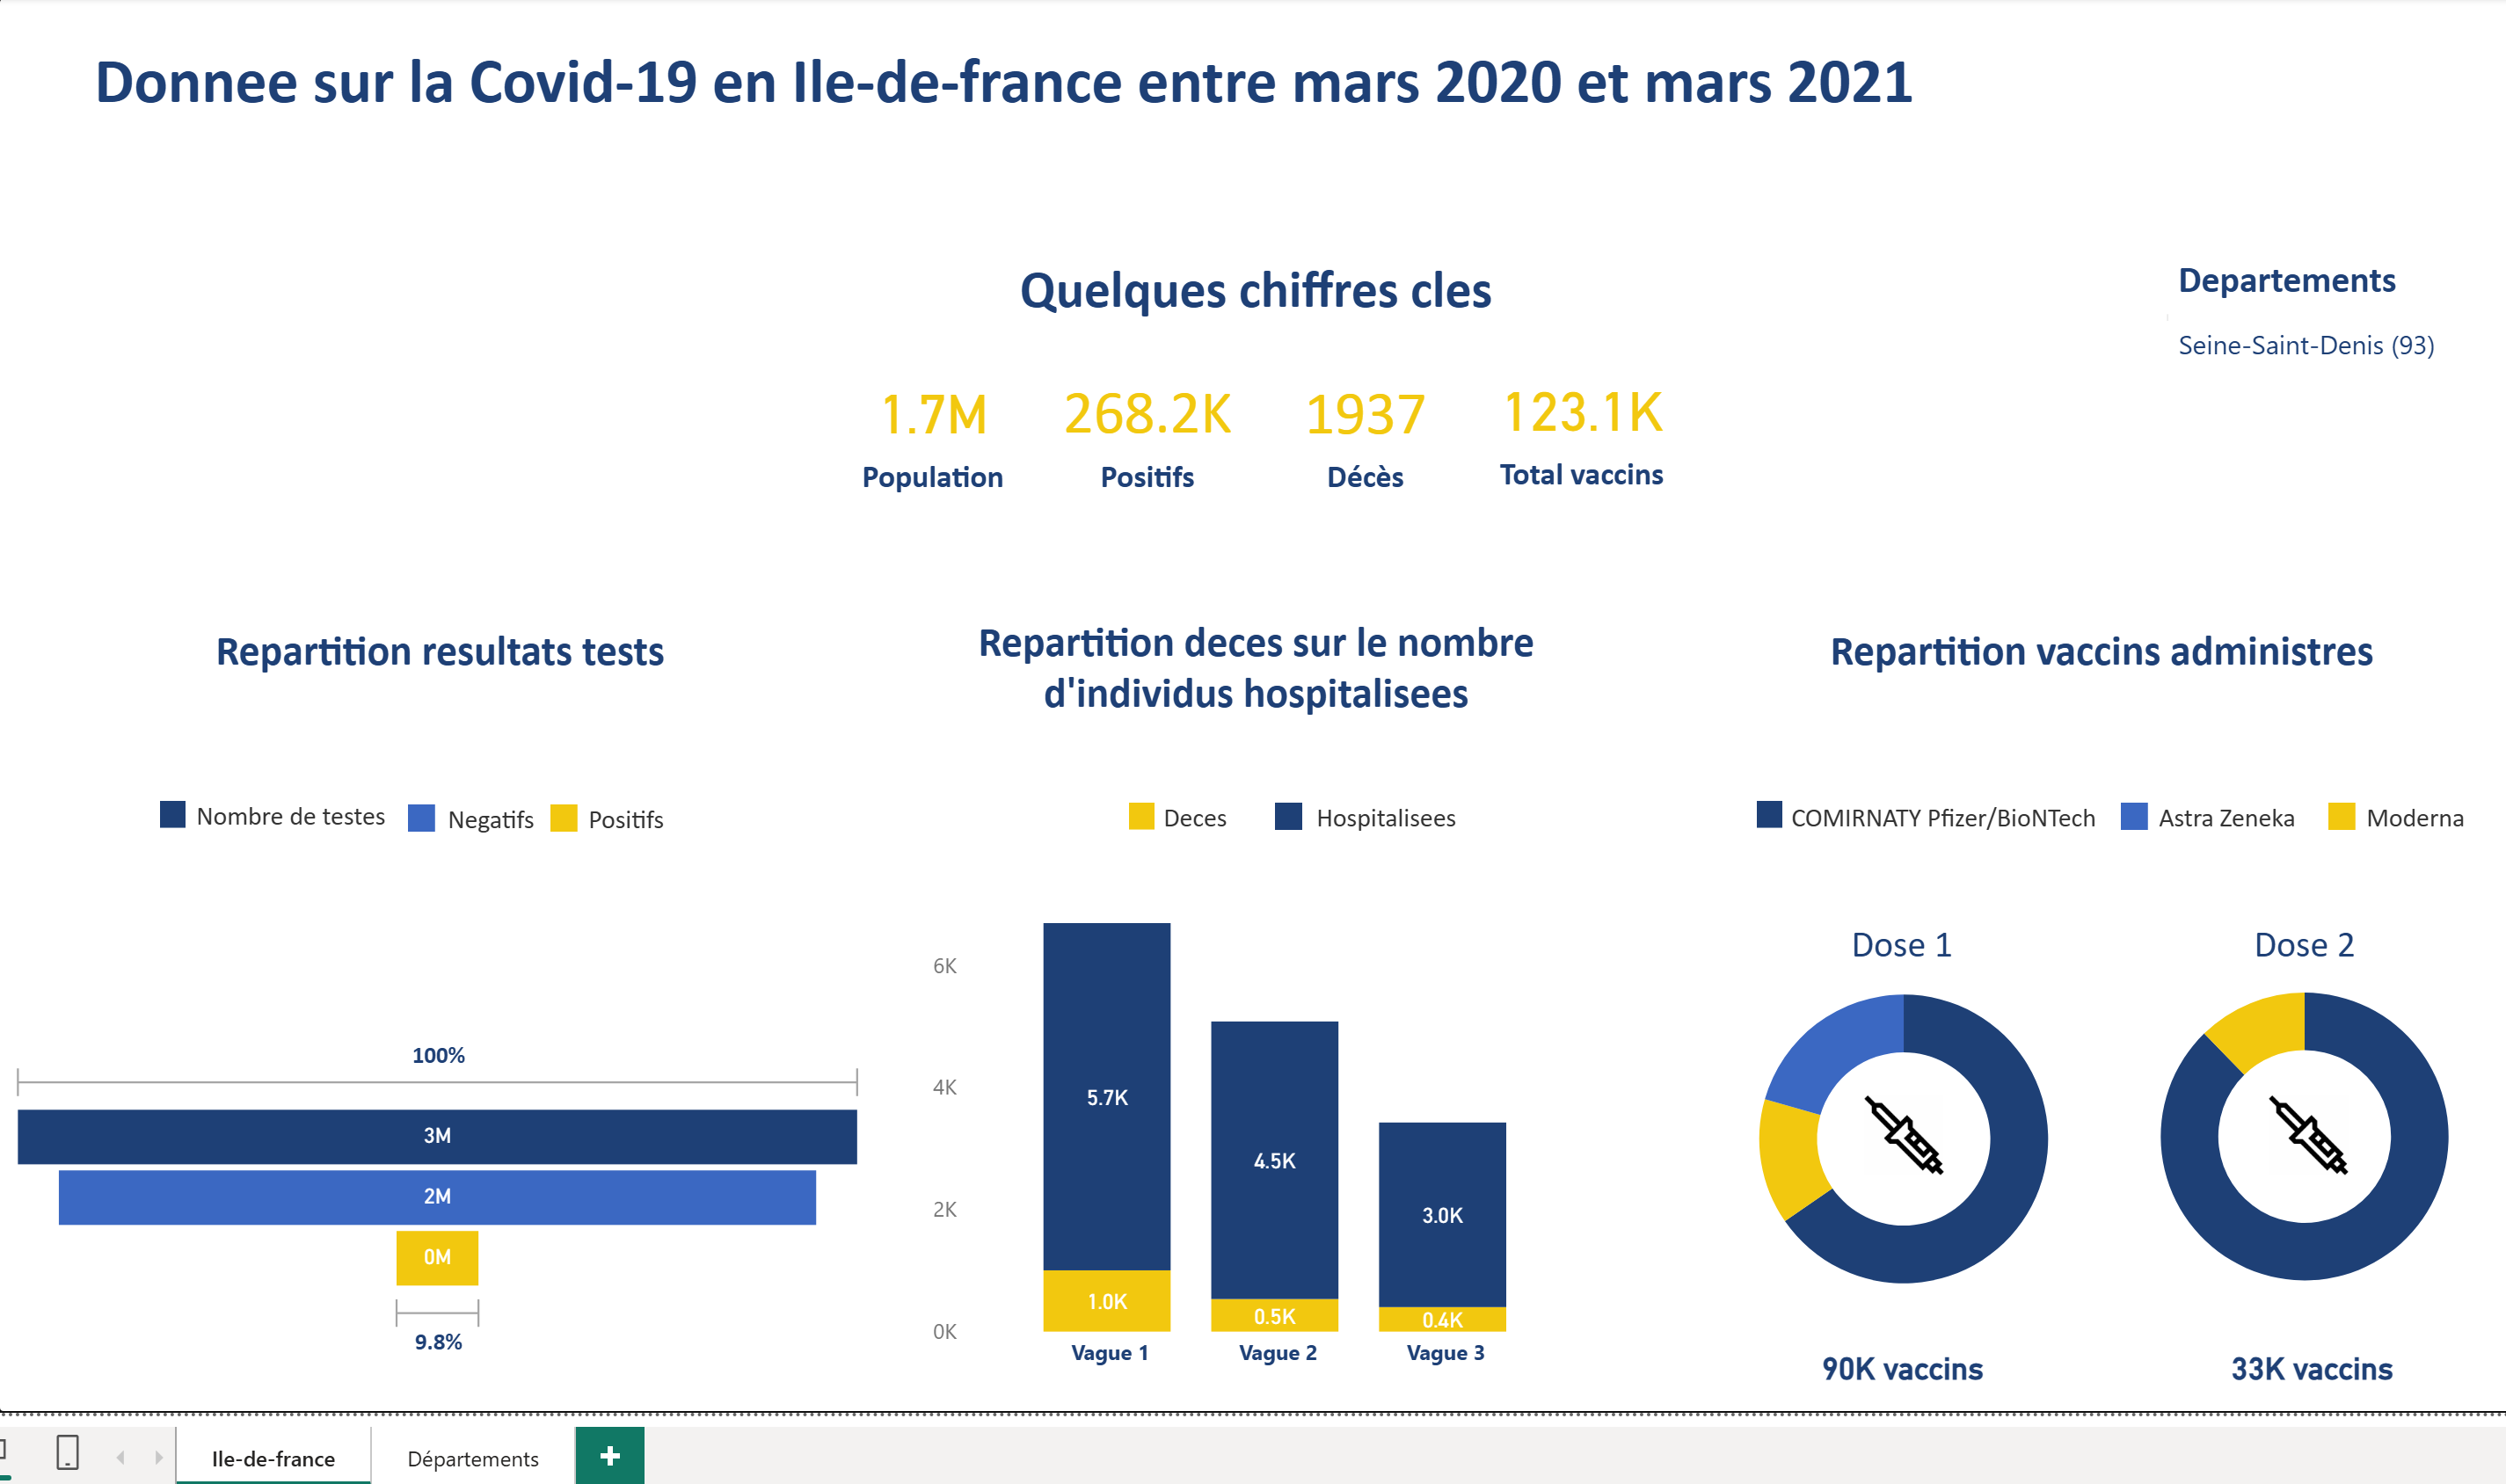

Layout of this report page (visuals, bound fields, positions):
{"tool":"powerbi","page":{"name":"Ile-de-france","canvas":[1280,720],"ordinal":0},"visuals":[{"type":"textbox","box":[44.2,18.3,1191.7,60],"z":0},{"type":"card","fields":{"Values":["Sum(hospitaliers.personnes nouvellement décédées)"]},"box":[640,181.8,110,76.9],"z":1000},{"type":"donutChart","fields":{"Y":["Sum(vaccins.V1-D1)","Sum(vaccins.V2-D1)","Sum(vaccins.V3-D1)"]},"box":[868.4,483.5,201.3,193.7],"z":2000},{"type":"card","fields":{"Values":["Sum(tests.positifs)"]},"box":[529.8,181.9,110,76.5],"z":3000},{"type":"donutChart","fields":{"Y":["Sum(vaccins.V1-D2)","Sum(vaccins.V2-D2)","Sum(vaccins.V3-D2)"]},"box":[1072.2,482.8,201.3,193],"z":4000},{"type":"card","fields":{"Values":["Jours.total vaccins"]},"box":[750,181,110,76.2],"z":5000},{"type":"textbox","box":[485,127.1,310,54.3],"z":6000},{"type":"slicer","fields":{"Values":["département.Departement"]},"box":[1092.9,151.5,185.3,54.1],"z":7000},{"type":"card","fields":{"Values":["Sum(département.Population)"]},"box":[420,181.8,110,76.9],"z":8000},{"type":"image","box":[940.5,554.1,54.4,53.2],"z":9000},{"type":"textbox","box":[913.5,464.8,110.1,37.1],"z":10000},{"type":"textbox","box":[1118,464.8,110.1,37.1],"z":11000},{"type":"columnChart","fields":{"Y":["Sum(hospitaliers.personnes nouvellement décédées)","Sum(hospitaliers.nouveaux hospitalisées)"],"Category":["Jours.vague"]},"box":[470.4,447,339.2,259.5],"z":12000},{"type":"image","box":[1146.8,554.1,54.4,53.2],"z":13000},{"type":"funnel","fields":{"Y":["Sum(tests.testés)","Sum(tests.négatifs)","Sum(tests.positifs)"]},"box":[0,523.6,446.8,174.7],"z":14000},{"type":"shape","box":[208.6,410.7,13.8,13.8],"z":15000},{"type":"card","fields":{"Values":["Jours.Measure 2"]},"box":[885.3,676.7,166.3,42.3],"z":16000},{"type":"shape","box":[82.7,408.8,13.1,13.8],"z":17000},{"type":"shape","box":[575.3,409.1,13.1,13.8],"z":18000,"group":"g1"},{"type":"shape","box":[1079.2,409.4,13.8,13.8],"z":18000},{"type":"shape","box":[649.2,408.9,13.9,13.8],"z":19000,"group":"g2"},{"type":"shape","box":[894.3,409.1,13.1,13.8],"z":19000},{"type":"textbox","box":[1093.7,401.4,92.1,29.5],"z":20000},{"type":"shape","box":[1185.5,409.3,13.8,13.8],"z":21000},{"type":"card","fields":{"Values":["vaccins.nb vaccins dose 2"]},"box":[1093.9,676.7,166.3,42.3],"z":22000},{"type":"textbox","box":[907.2,401.5,178.5,29.1],"z":23000},{"type":"textbox","box":[1199.5,401.6,73.2,29.5],"z":24000},{"type":"textbox","box":[588,401.5,53.4,29.1],"z":25000,"group":"g1"},{"type":"shape","box":[281.1,410.3,13.8,13.8],"z":25000},{"type":"textbox","box":[70,314.1,310,54.3],"z":26000},{"type":"textbox","box":[223.7,402.7,69.6,29.1],"z":27000},{"type":"textbox","box":[478.6,309.5,322.6,65.5],"z":28000},{"type":"textbox","box":[665.5,401.2,97.6,29.8],"z":29000,"group":"g2"},{"type":"textbox","box":[295.2,402.7,73.2,29.5],"z":29000},{"type":"textbox","box":[95.4,401.1,129.1,29.1],"z":30000},{"type":"textbox","box":[904.3,314.3,331.4,54.3],"z":31000},{"type":"shape","box":[1100.9,187.5,176.4,20],"z":32000},{"type":"shape","box":[1103.6,148.4,176.4,20],"z":33000},{"type":"textbox","box":[1103.6,127.3,161.8,37.3],"z":34000},{"type":"shape","box":[1096.3,164.2,11.1,28.4],"z":35000},{"type":"shape","box":[1247.1,161,28.2,29.4],"z":36000},{"type":"group","id":"g1","title":"Group 1","box":[575.3,401.5,66.2,29.1],"z":37000},{"type":"group","id":"g2","title":"Group 2","box":[649.2,401.2,113.9,29.8],"z":38000}]}

Visuals, with their boxes on the page's 1280x720 design canvas (x1, y1, x2, y2). These are canvas units, not pixel positions in the 2506x1484 screenshot, which may show the page scaled, cropped or inside an application window:
textbox: x1=44 y1=18 x2=1236 y2=78
card - Sum(hospitaliers.personnes nouvellement décédées): x1=640 y1=182 x2=750 y2=259
donutChart - Sum(vaccins.V1-D1) x Sum(vaccins.V2-D1): x1=868 y1=484 x2=1070 y2=677
card - Sum(tests.positifs): x1=530 y1=182 x2=640 y2=258
donutChart - Sum(vaccins.V1-D2) x Sum(vaccins.V2-D2): x1=1072 y1=483 x2=1274 y2=676
card - Jours.total vaccins: x1=750 y1=181 x2=860 y2=257
textbox: x1=485 y1=127 x2=795 y2=181
slicer - département.Departement: x1=1093 y1=152 x2=1278 y2=206
card - Sum(département.Population): x1=420 y1=182 x2=530 y2=259
image: x1=940 y1=554 x2=995 y2=607
textbox: x1=914 y1=465 x2=1024 y2=502
textbox: x1=1118 y1=465 x2=1228 y2=502
columnChart - Sum(hospitaliers.personnes nouvellement décédées) x Sum(hospitaliers.nouveaux hospitalisées): x1=470 y1=447 x2=810 y2=706
image: x1=1147 y1=554 x2=1201 y2=607
funnel - Sum(tests.testés) x Sum(tests.négatifs): x1=0 y1=524 x2=447 y2=698
shape: x1=209 y1=411 x2=222 y2=424
card - Jours.Measure 2: x1=885 y1=677 x2=1052 y2=719
shape: x1=83 y1=409 x2=96 y2=423
shape: x1=575 y1=409 x2=588 y2=423
shape: x1=1079 y1=409 x2=1093 y2=423
shape: x1=649 y1=409 x2=663 y2=423
shape: x1=894 y1=409 x2=907 y2=423
textbox: x1=1094 y1=401 x2=1186 y2=431
shape: x1=1186 y1=409 x2=1199 y2=423
card - vaccins.nb vaccins dose 2: x1=1094 y1=677 x2=1260 y2=719
textbox: x1=907 y1=402 x2=1086 y2=431
textbox: x1=1200 y1=402 x2=1273 y2=431
textbox: x1=588 y1=402 x2=641 y2=431
shape: x1=281 y1=410 x2=295 y2=424
textbox: x1=70 y1=314 x2=380 y2=368
textbox: x1=224 y1=403 x2=293 y2=432
textbox: x1=479 y1=310 x2=801 y2=375
textbox: x1=666 y1=401 x2=763 y2=431
textbox: x1=295 y1=403 x2=368 y2=432
textbox: x1=95 y1=401 x2=224 y2=430
textbox: x1=904 y1=314 x2=1236 y2=369
shape: x1=1101 y1=188 x2=1277 y2=208
shape: x1=1104 y1=148 x2=1280 y2=168
textbox: x1=1104 y1=127 x2=1265 y2=165
shape: x1=1096 y1=164 x2=1107 y2=193
shape: x1=1247 y1=161 x2=1275 y2=190
"Group 1" group: x1=575 y1=402 x2=642 y2=431
"Group 2" group: x1=649 y1=401 x2=763 y2=431
